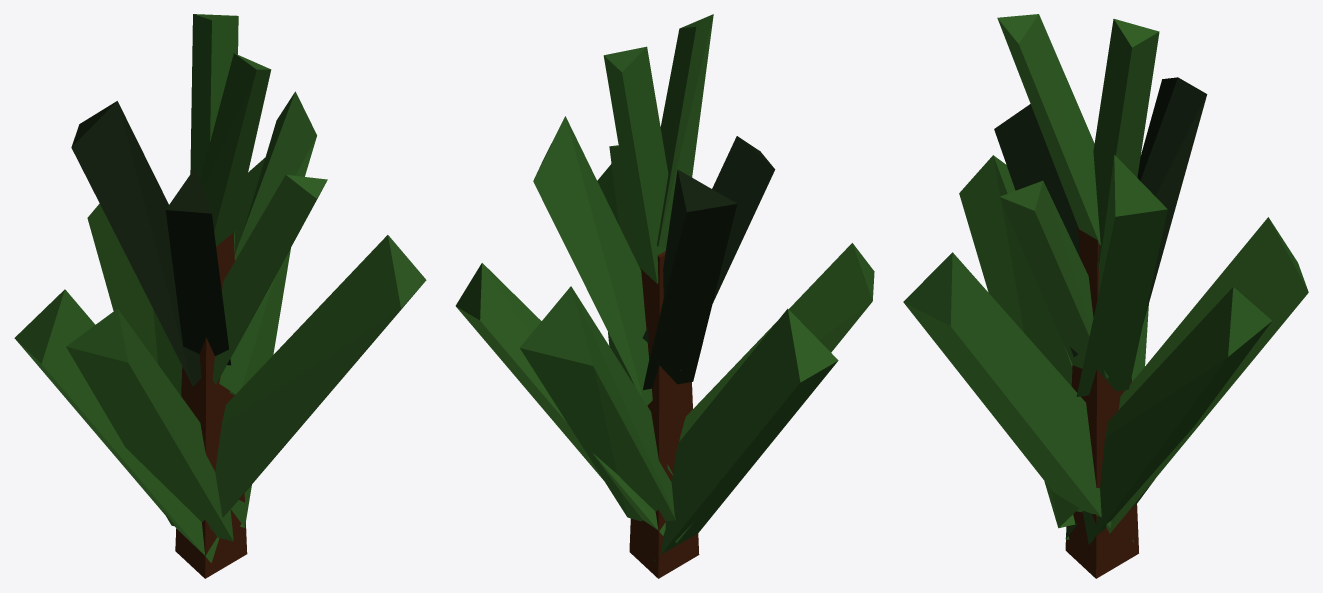
Rendered from Tree3_M1_2_small.fbx.
3 views of the same model, side by side, from view 1: azimuth 30°, elevation 25°; view 2: azimuth 150°, elevation 25°; view 3: azimuth 270°, elevation 25° (orthographic). The views are drawn at different scales.
Visible parts, largest first — view 1: Tree3_M1_2_small; view 2: Tree3_M1_2_small; view 3: Tree3_M1_2_small.
Boxes of the visible parts, left/top/right/bottom form: Tree3_M1_2_small: left=14, top=14, right=426, bottom=578; Tree3_M1_2_small: left=455, top=14, right=874, bottom=578; Tree3_M1_2_small: left=903, top=14, right=1308, bottom=578.
Bounding box in the file's own units: 82.5 × 127 × 85.43.
